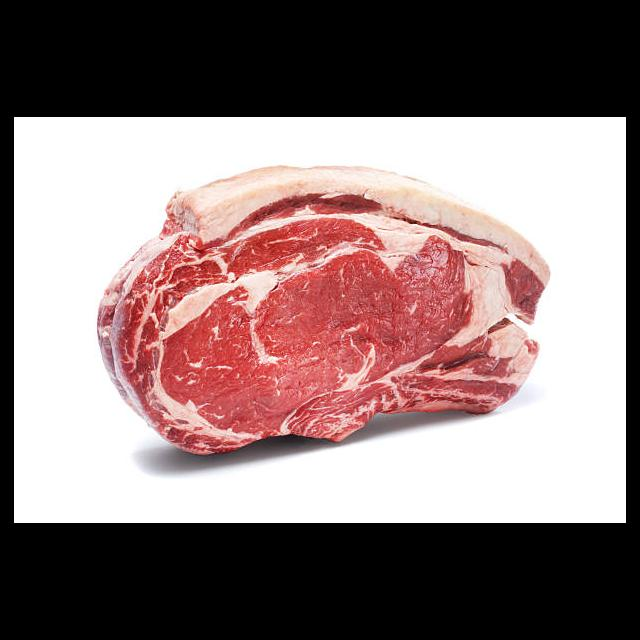beef: (96, 163, 552, 455)
